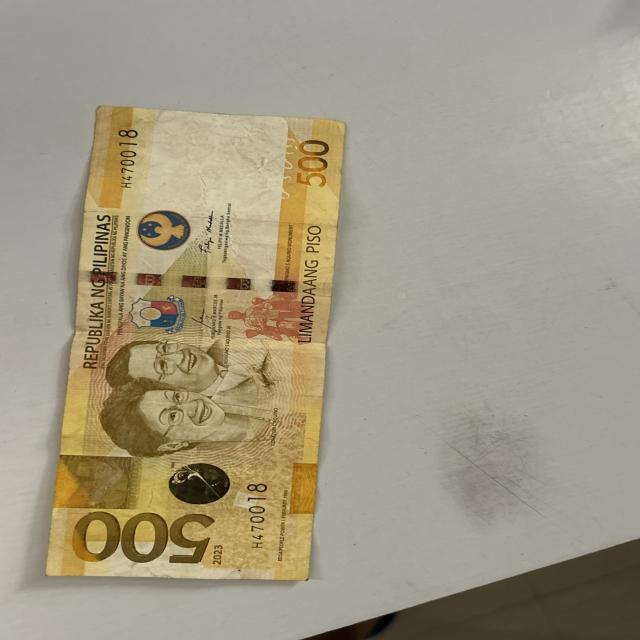concealed_value: (64, 456, 140, 511)
optically_variable_device: (156, 464, 235, 504)
see_through_mark: (280, 139, 308, 203)
